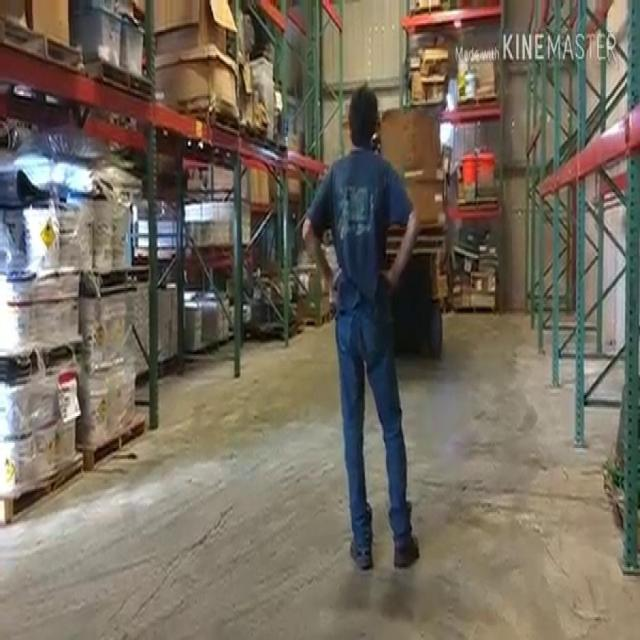person: (299, 82, 426, 576)
